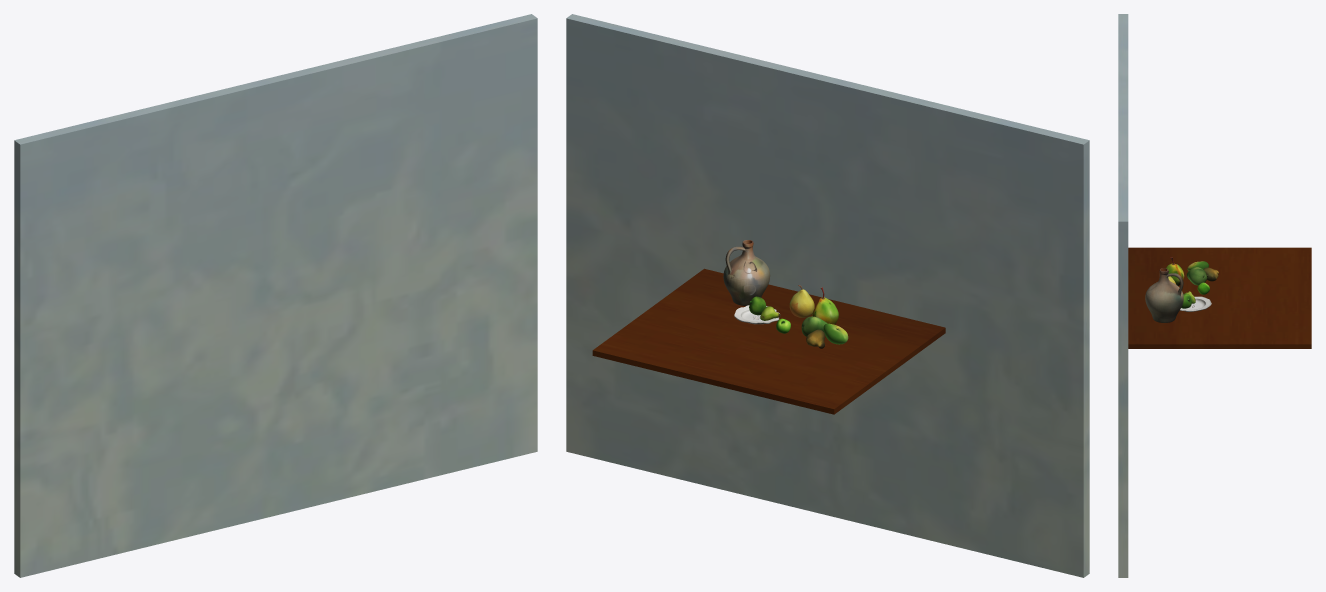
Rendered from ours.glb.
3 renders of one model, left to right at view 1: azimuth 30°, elevation 25°; view 2: azimuth 150°, elevation 25°; view 3: azimuth 270°, elevation 25°, orthographic. The views are drawn at different scales.
Parts seen in each view (by area): view 1: wall_0; view 2: wall_0, table_0, obj_jug_0; view 3: table_0, wall_0, obj_jug_0, obj_pear_3, obj_plate_0.
Boxes of the visible parts, left/top/right/bottom form: wall_0: left=14, top=14, right=537, bottom=577; wall_0: left=566, top=14, right=1089, bottom=577; table_0: left=592, top=268, right=945, bottom=414; obj_jug_0: left=723, top=240, right=770, bottom=305; table_0: left=1128, top=247, right=1311, bottom=348; wall_0: left=1118, top=14, right=1128, bottom=577; obj_jug_0: left=1145, top=268, right=1183, bottom=322; obj_pear_3: left=1186, top=267, right=1207, bottom=285; obj_plate_0: left=1180, top=296, right=1211, bottom=311.
Bounding box in the file's own units: 3 × 2.4 × 1.18.
12 materials, 12 textured.
